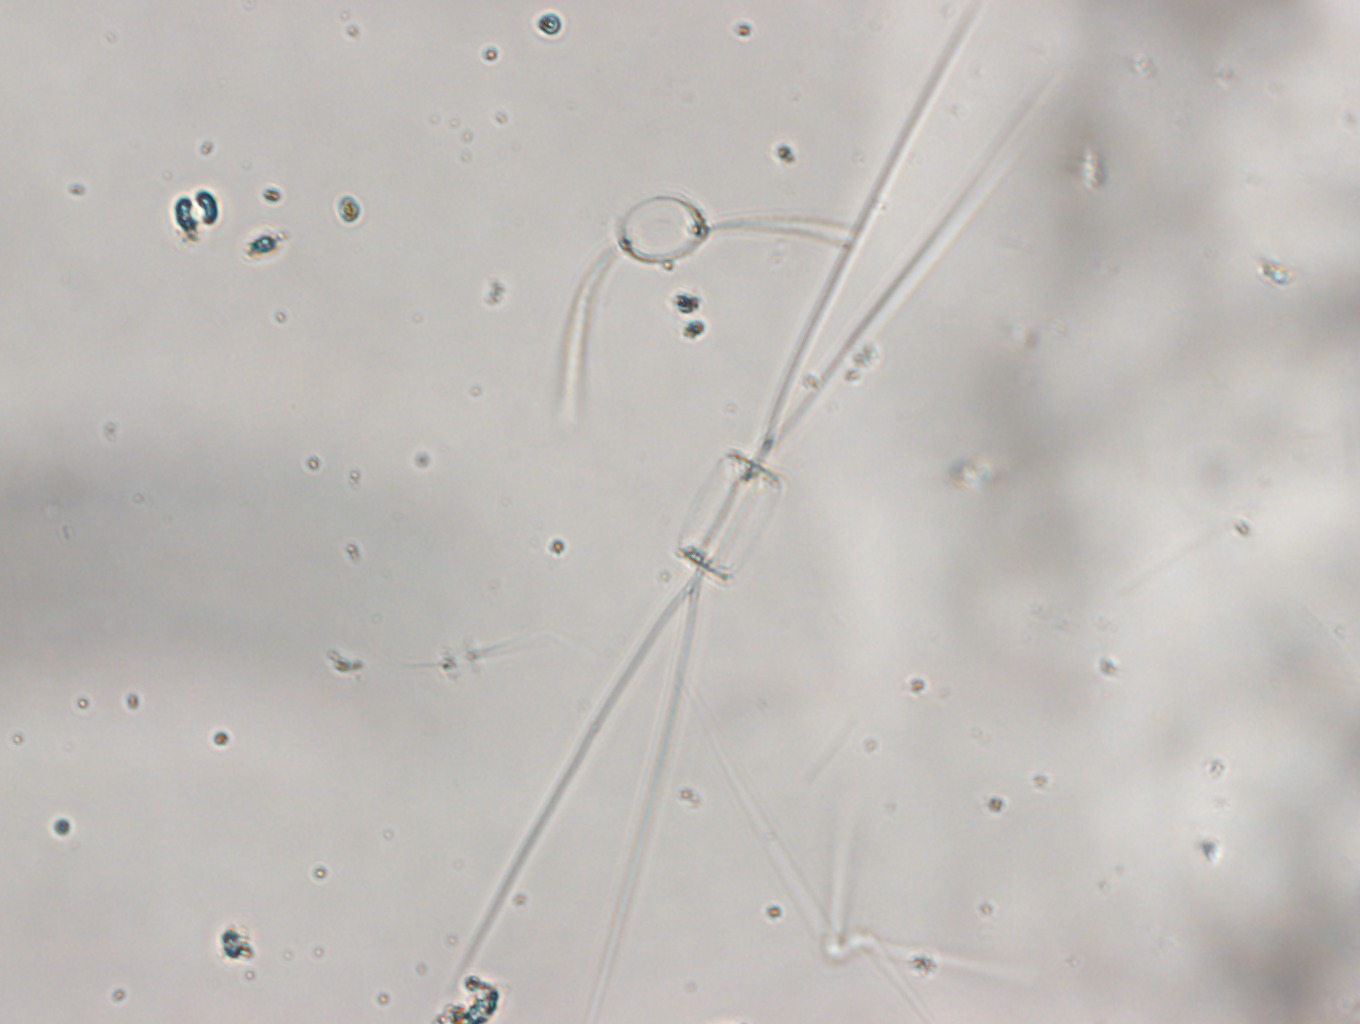chaetoceros: (434, 8, 1033, 1000), (556, 183, 857, 406)
